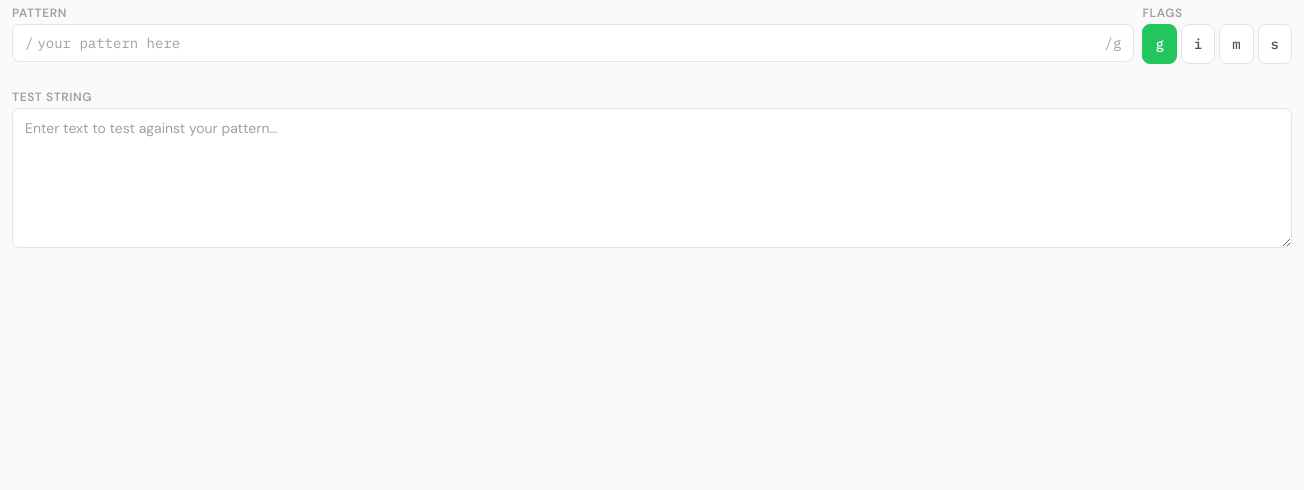
Test case: RegexTesterTool › updates result when valid regex matches
The image size is (1304, 490).
Type "test" into the field with placeholder "your pattern here" at (569, 43), box [37,25,1101,61]
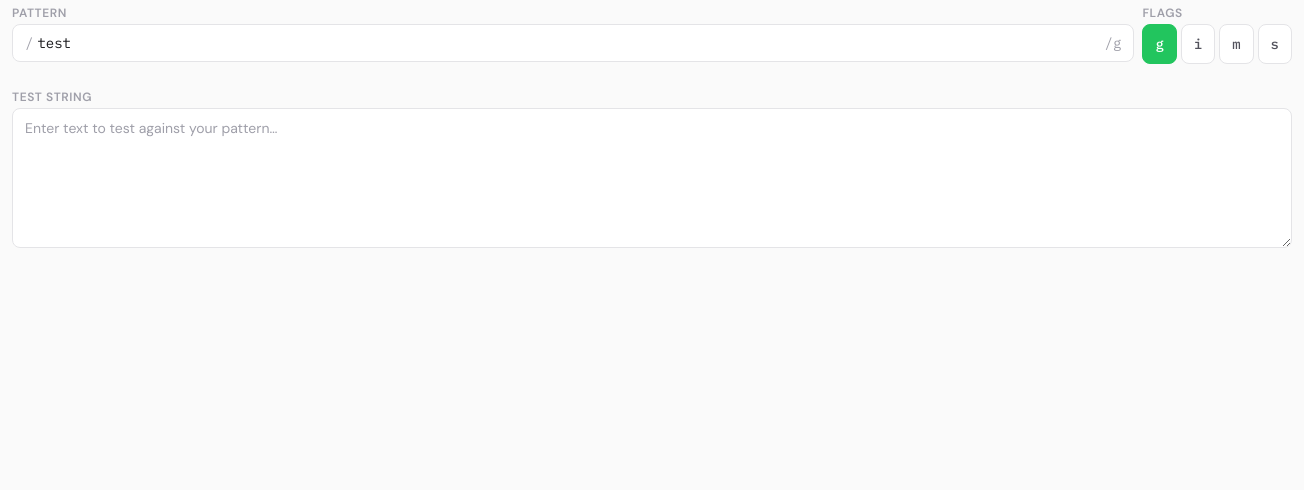
Type "test string" into the text box with placeholder "Enter text to test against your pattern…" at (652, 178), box [12,108,1292,248]
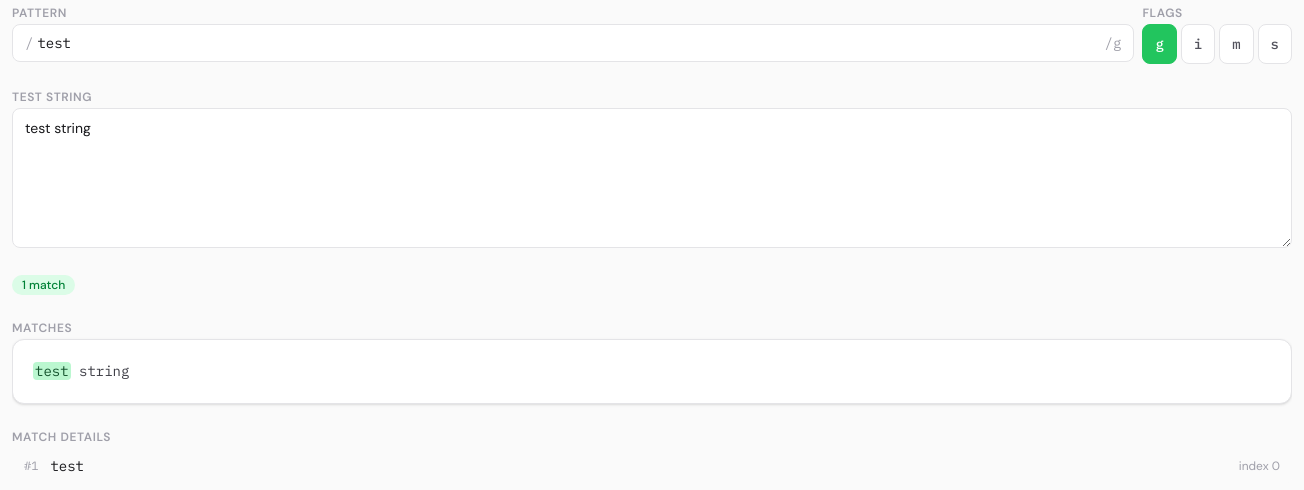
expect the text "1 match" is shown: met, box [12,275,75,295]
expect the text "index 0" is shown: met, box [1239,458,1280,474]
